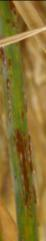Wheat: (15, 124, 33, 202), (0, 44, 17, 106), (3, 3, 21, 34)
